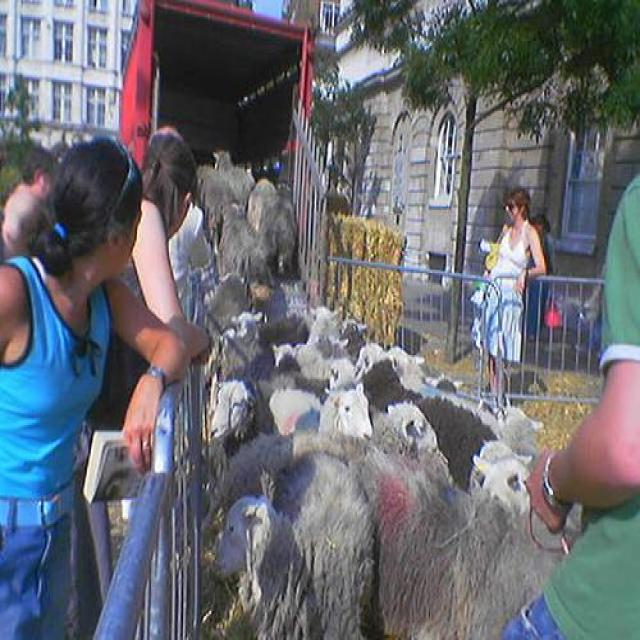Sheep: (207, 282, 558, 492), (209, 461, 385, 638), (378, 454, 530, 638), (201, 434, 449, 526), (361, 360, 499, 497), (216, 203, 274, 292), (318, 382, 372, 440)
